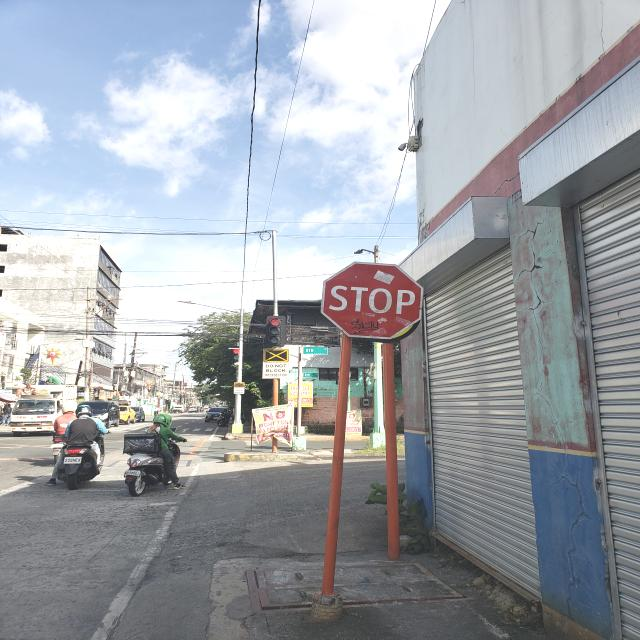stop-sign: (320, 261, 424, 339)
